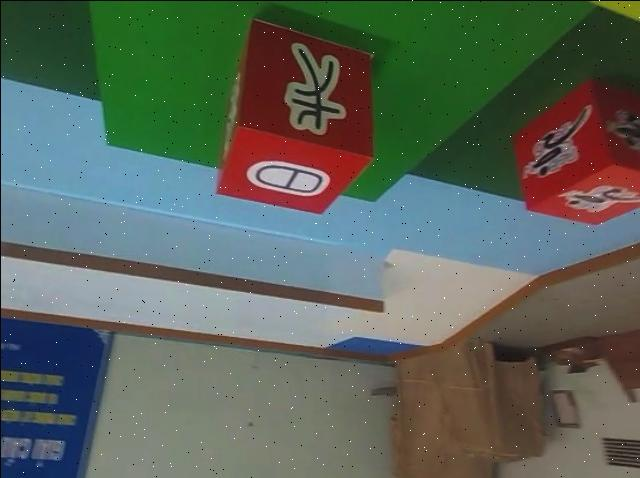R1: (508, 76, 640, 230)
R2 Fake: (217, 17, 375, 215)
